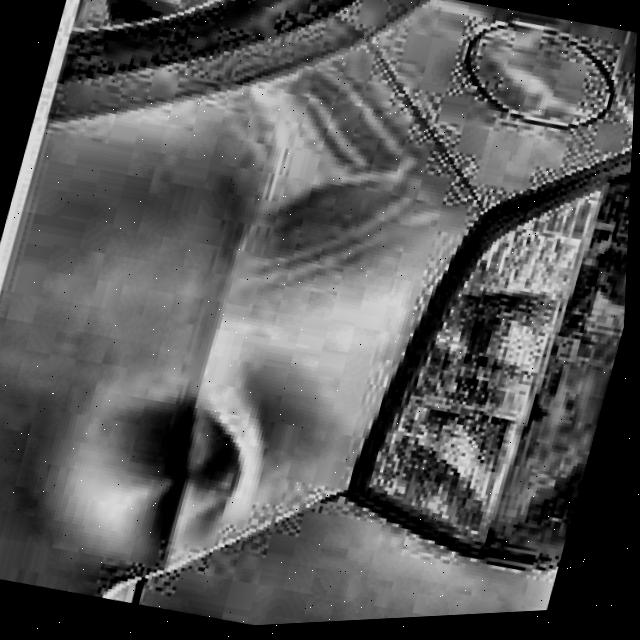bumper_dent: (37, 360, 265, 594)
